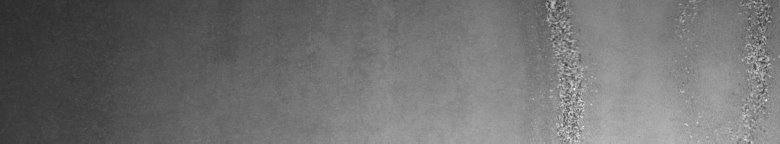hc: (532, 4, 596, 136)
